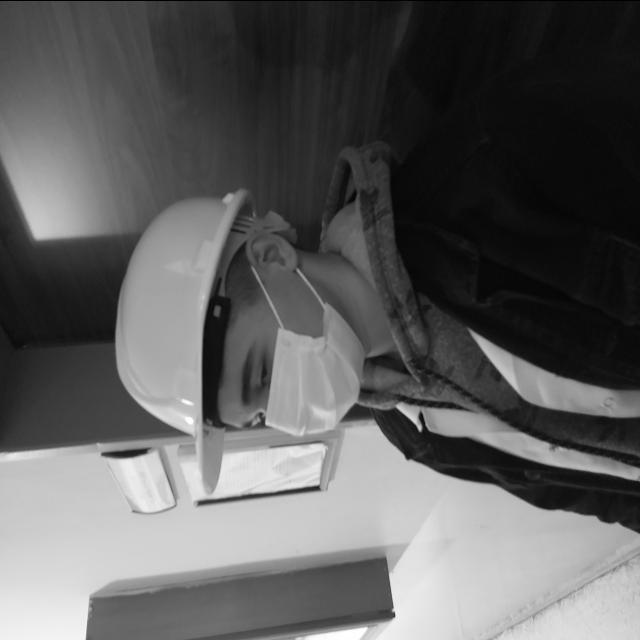safety_helmet: (117, 188, 256, 456)
